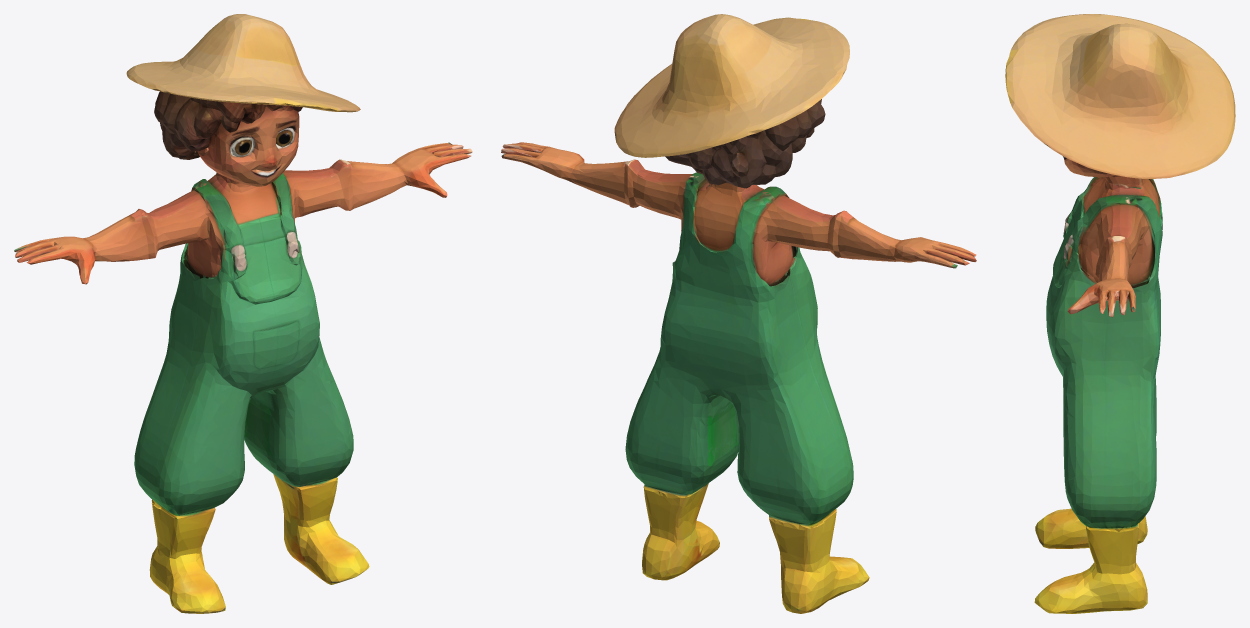
The model's file is jardineiro_cartoon__0609220454_texture.fbx.
The picture shows the model from 3 angles, left to right: view 1: azimuth 30°, elevation 25°; view 2: azimuth 150°, elevation 25°; view 3: azimuth 270°, elevation 25°; orthographic projection. The views are drawn at different scales.
Parts seen in each view (by area): view 1: temp; view 2: temp; view 3: temp.
Boxes of the visible parts, x1=… form: temp: x1=14, y1=14, x2=472, y2=613; temp: x1=501, y1=14, x2=976, y2=613; temp: x1=1005, y1=14, x2=1235, y2=613.
Size of the model in its own units: 172 by 200 by 75.18.
1 material, 1 textured.
